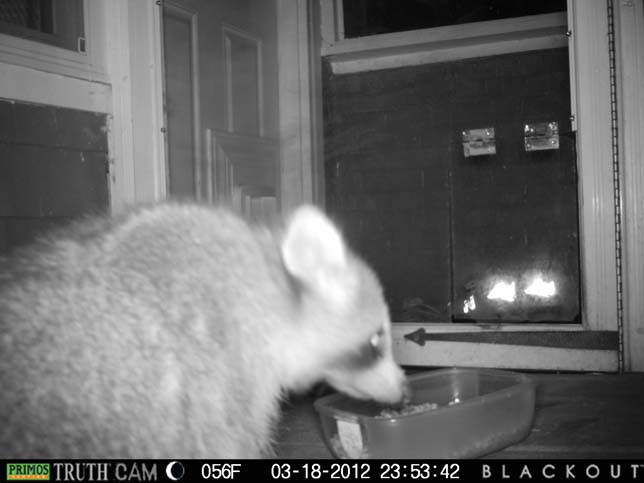raccoon: (3, 185, 460, 465)
